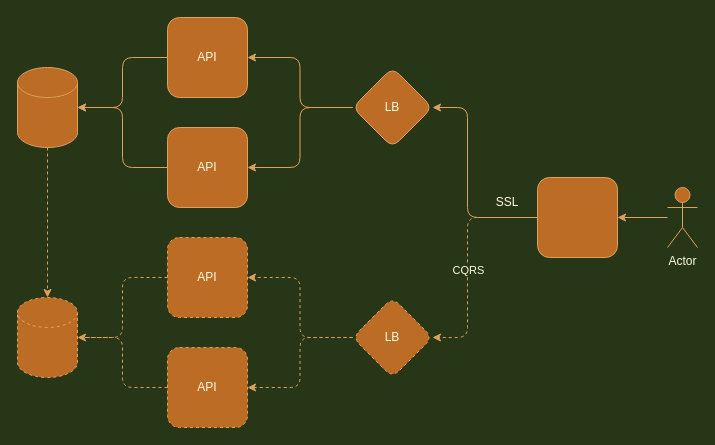
Image size: 715x445. Some labels were removed from this diagram. Each missing label, with the centre of its shape:
"primary" belongs at (x=47, y=107).
"replica" belongs at (x=47, y=337).
"UI" belongs at (x=577, y=217).
